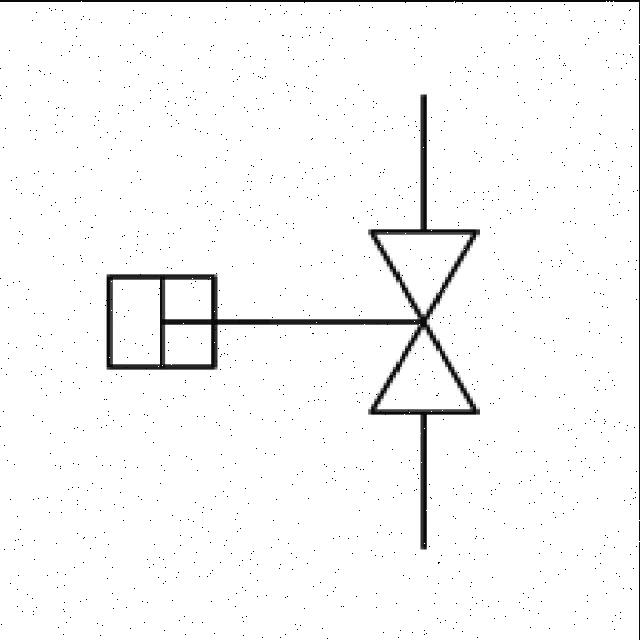Rotary Piston-Pneumatic Gate Valve: (68, 180, 536, 460)
